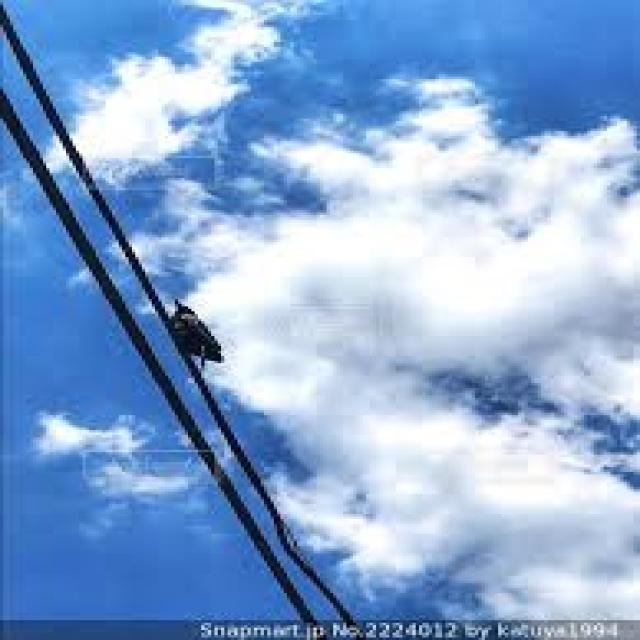bird: (156, 287, 248, 380)
